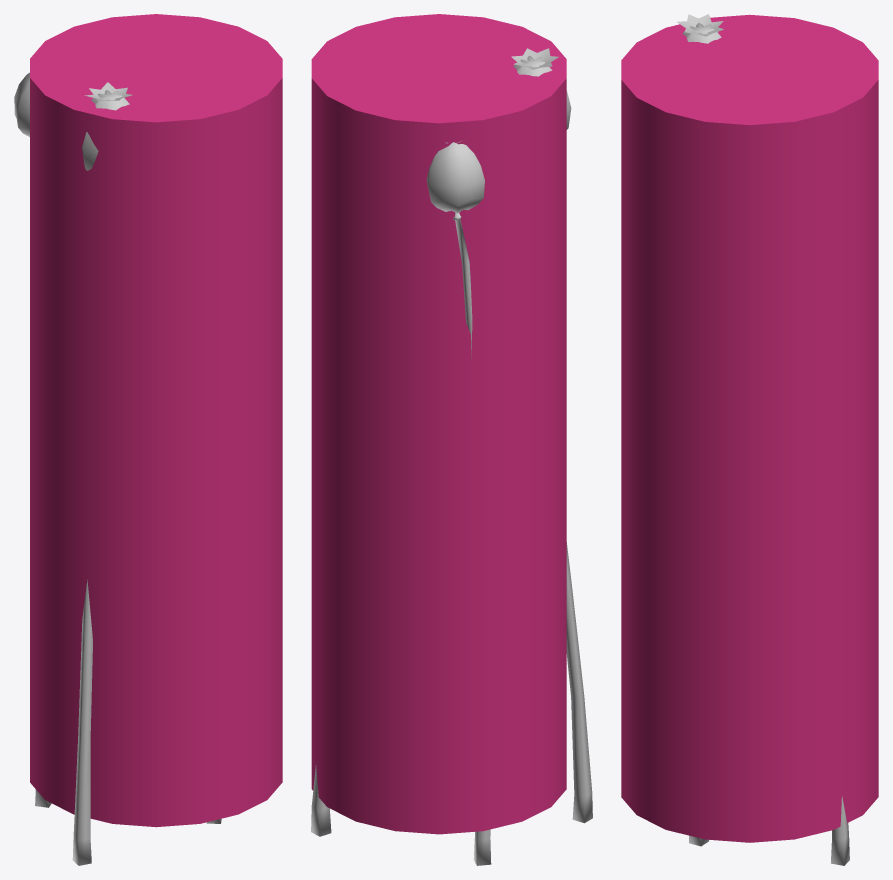
Rendered from Poppies.fbx.
The picture shows the model from 3 angles, left to right: view 1: azimuth 30°, elevation 25°; view 2: azimuth 150°, elevation 25°; view 3: azimuth 270°, elevation 25°; orthographic projection.
Visible parts, largest first — view 1: UCL_cyllinder, Circle.007; view 2: UCL_cyllinder, Circle.007; view 3: UCL_cyllinder, Circle.007.
Part boxes in pixels (x1=…): UCL_cyllinder: x1=30, y1=14, x2=282, y2=827; Circle.007: x1=14, y1=72, x2=221, y2=865; UCL_cyllinder: x1=311, y1=14, x2=566, y2=834; Circle.007: x1=311, y1=48, x2=592, y2=865; UCL_cyllinder: x1=621, y1=14, x2=878, y2=842; Circle.007: x1=677, y1=14, x2=849, y2=865.
Size of the model in its own units: 11.32 by 36.09 by 10.97.
